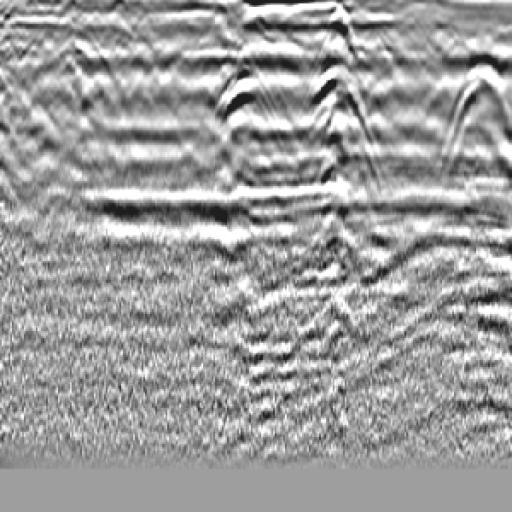metalic: (294, 16, 399, 281)
nonmetalic: (422, 38, 512, 210), (181, 52, 294, 183)
